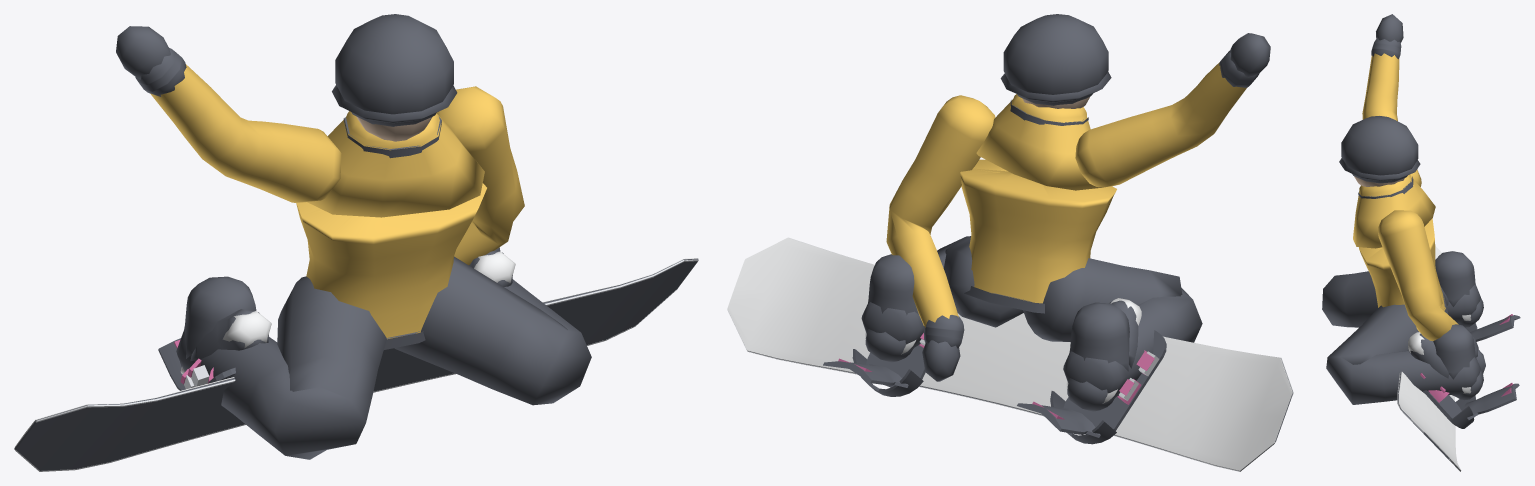
File: snowboard-gear-and-freestyle-riders-rider-method-grab-793129d3__27168.glb
3 views of the same model, side by side, from view 1: azimuth 30°, elevation 25°; view 2: azimuth 150°, elevation 25°; view 3: azimuth 270°, elevation 25° (orthographic). The views are drawn at different scales.
Parts seen in each view (by area): view 1: rider-method-grab; view 2: rider-method-grab; view 3: rider-method-grab.
Part boxes in pixels (box(x1,y1,x2,y2)): rider-method-grab: box(14, 14, 698, 471); rider-method-grab: box(727, 14, 1293, 471); rider-method-grab: box(1322, 14, 1520, 471).
Size of the model in its own units: 1.52 by 1.07 by 0.6491.
